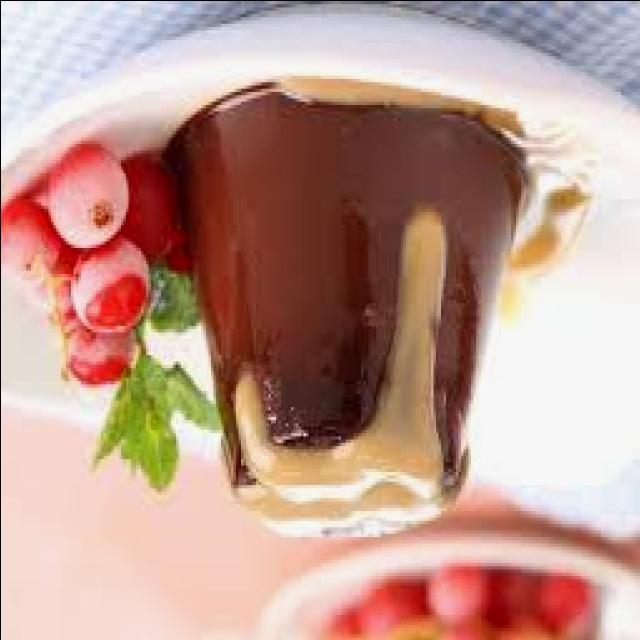puding: (160, 81, 528, 539)
